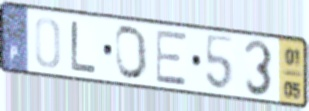0: (33, 15, 63, 70)
3: (243, 38, 276, 99)
5: (203, 32, 237, 95)
E: (154, 29, 189, 88)
L: (69, 19, 100, 76)
O: (113, 23, 150, 82)
